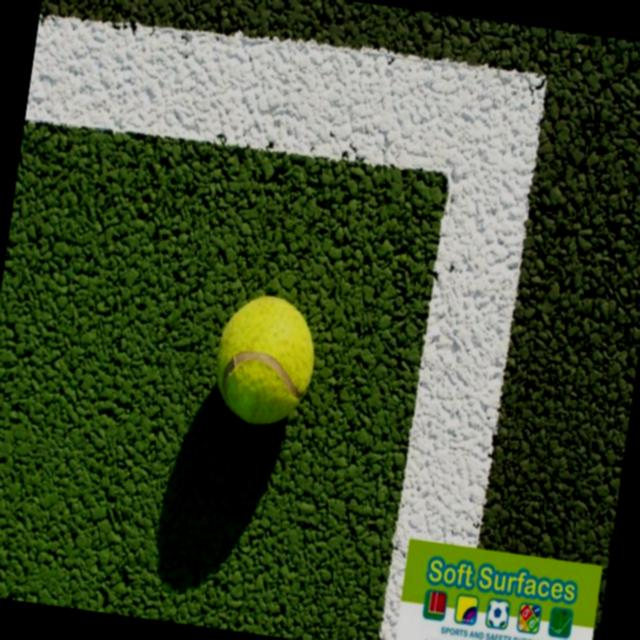Tennis ball: (210, 291, 322, 432)
